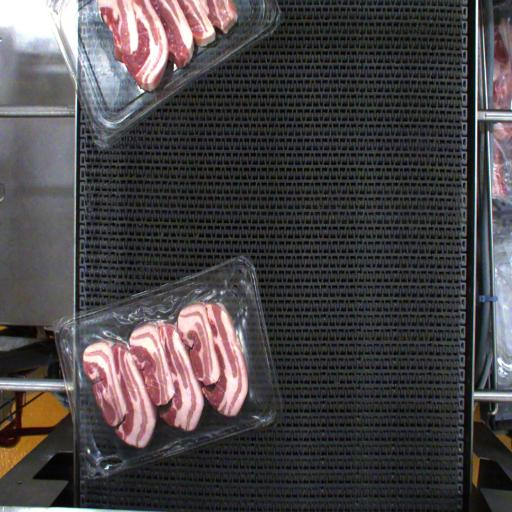unsealed: (52, 271, 274, 434)
